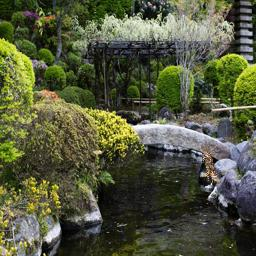Sparrow: (201, 146, 222, 186)
